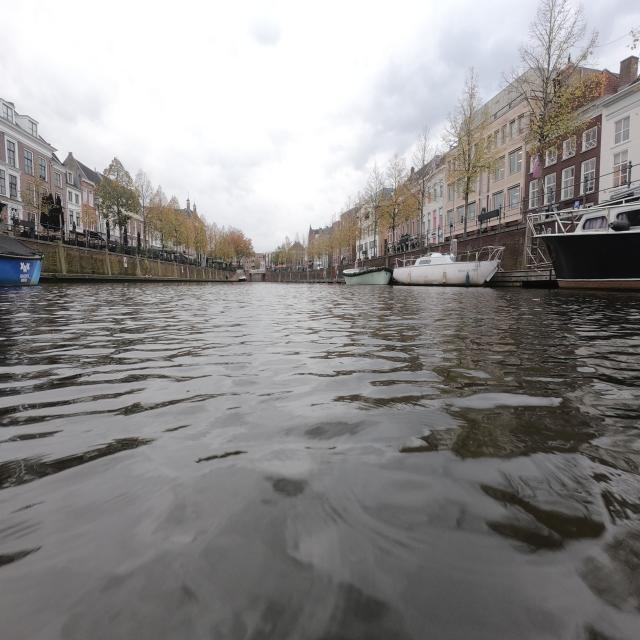boat: (534, 201, 640, 290), (393, 253, 500, 286), (0, 235, 43, 286), (343, 266, 393, 285)
sky: (0, 0, 539, 252)
water: (0, 280, 640, 640)
